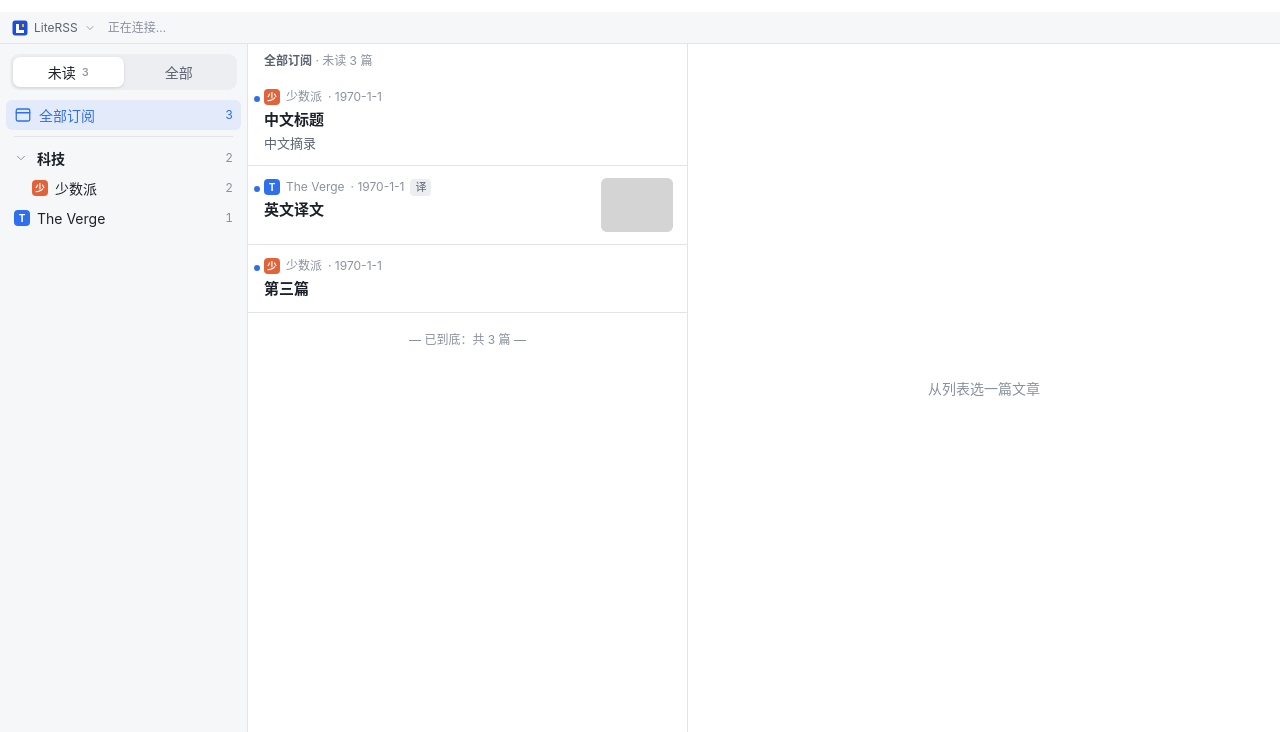
Test: 列表 › 点开变灰但不消失
The image size is (1280, 732).
What coordinates should you click on to do the following:
click the option "T The Verge · 1970-1-1 译 英文译文"
I would click on:
 (315, 187)
Its box is [248, 166, 687, 245].
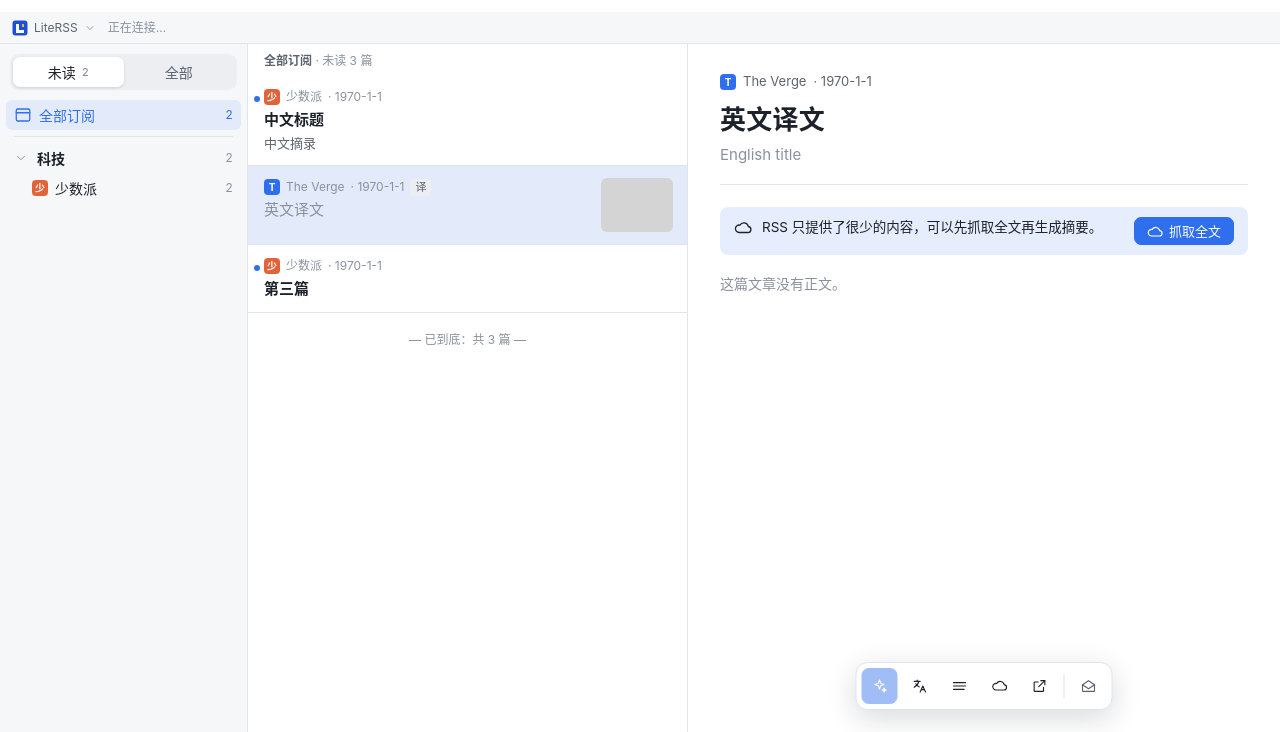
Expected: the number of options is 3, [248, 76, 687, 166]; [248, 166, 687, 245]; [248, 245, 687, 313]
Result: the button "未读 2" is shown at [13, 57, 124, 87]
